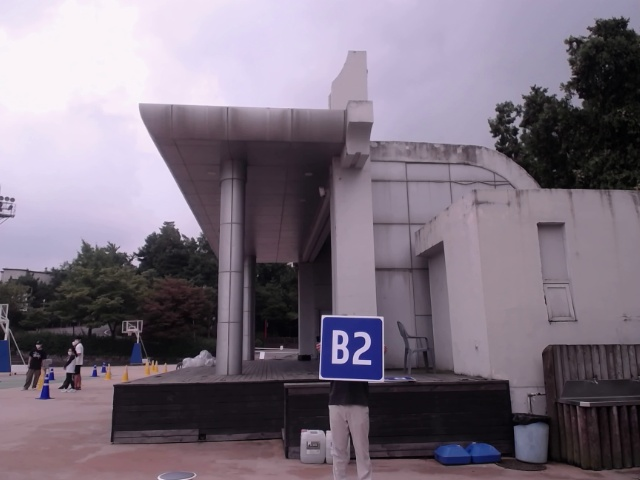delivery_b2: (321, 315, 385, 381)
